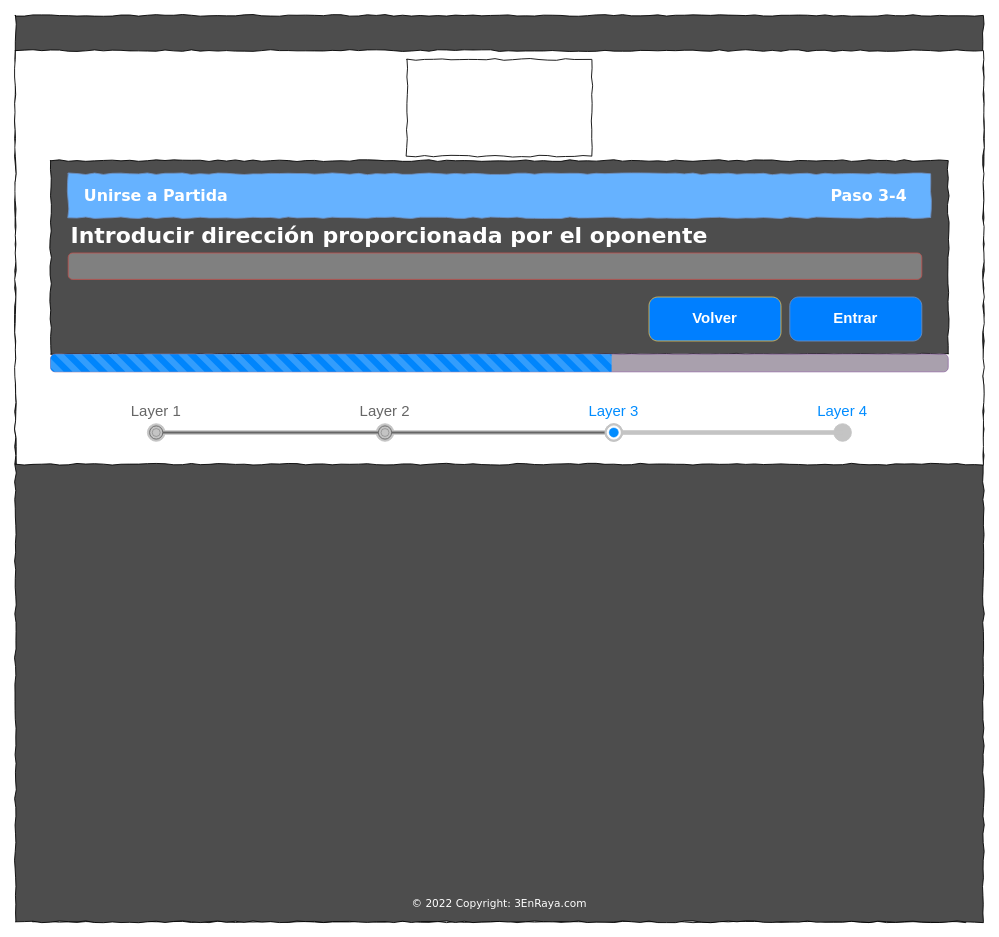
Image size: 999x937. Some labels were removed from this diagram. The shapes that lost their labels are listed below. From the top down, each one's box as (x1, y1, x2, y2) in pixels, then its label:
(406, 59, 592, 156): LOGO
(67, 252, 922, 279): ID Contrato
